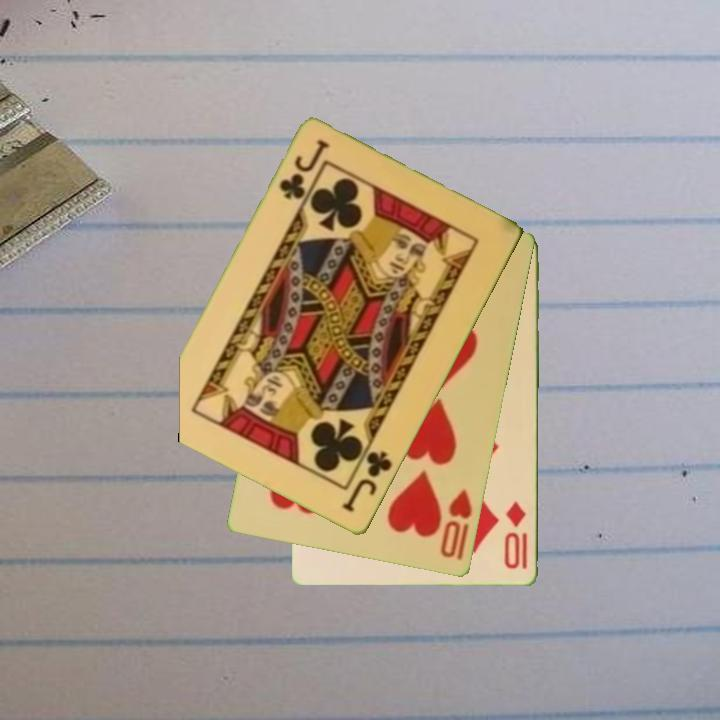10d: (501, 498, 531, 573)
10h: (437, 486, 476, 562)
Jc: (339, 448, 396, 516), (276, 136, 332, 203)
